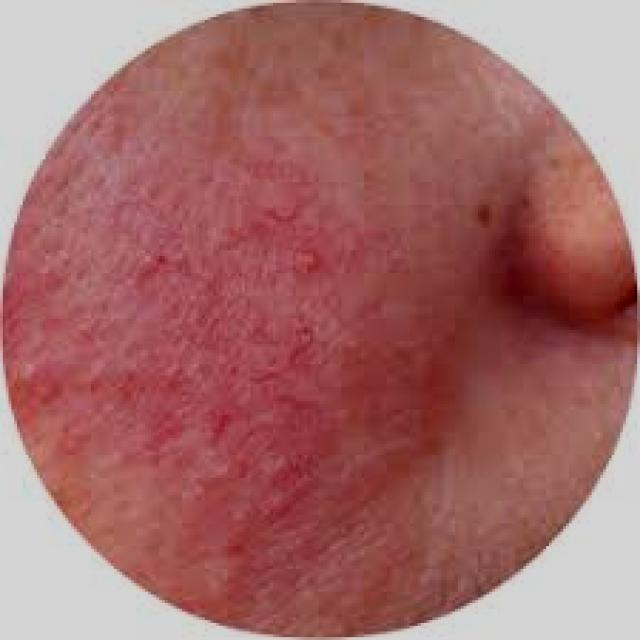Rosacea: (8, 119, 484, 603)
